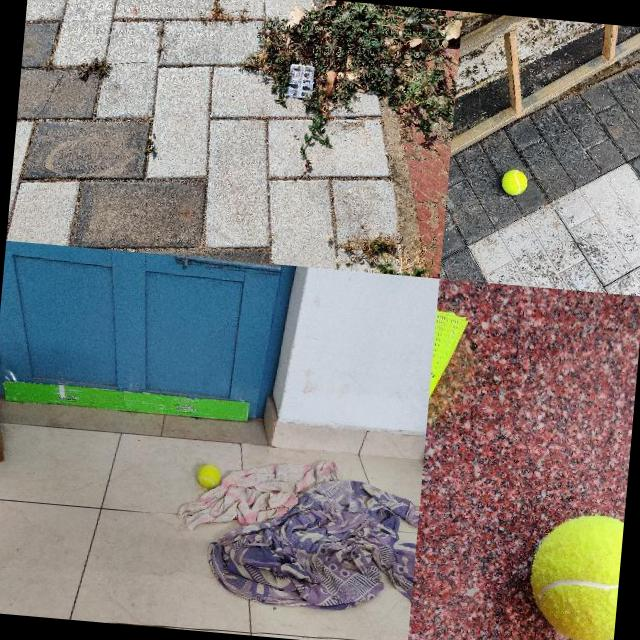tennis-ball: (525, 509, 623, 640), (500, 168, 528, 195), (196, 463, 221, 489)
